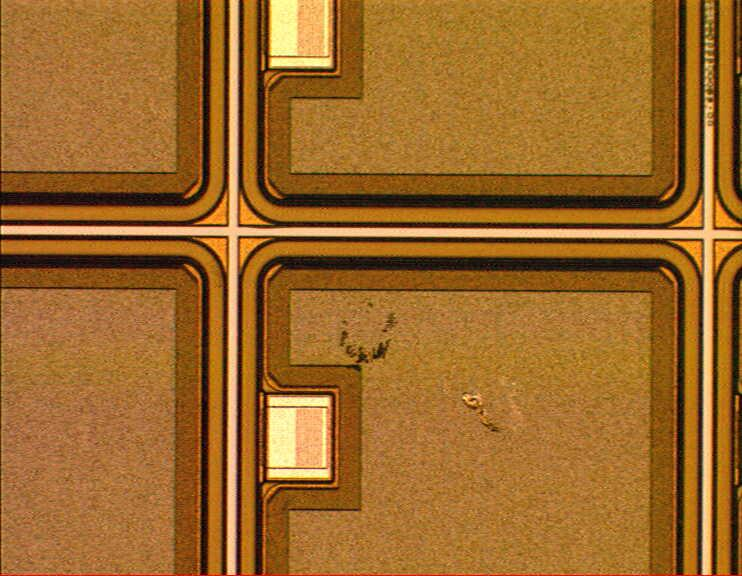PO CONTAMINATION: (329, 291, 514, 445)
